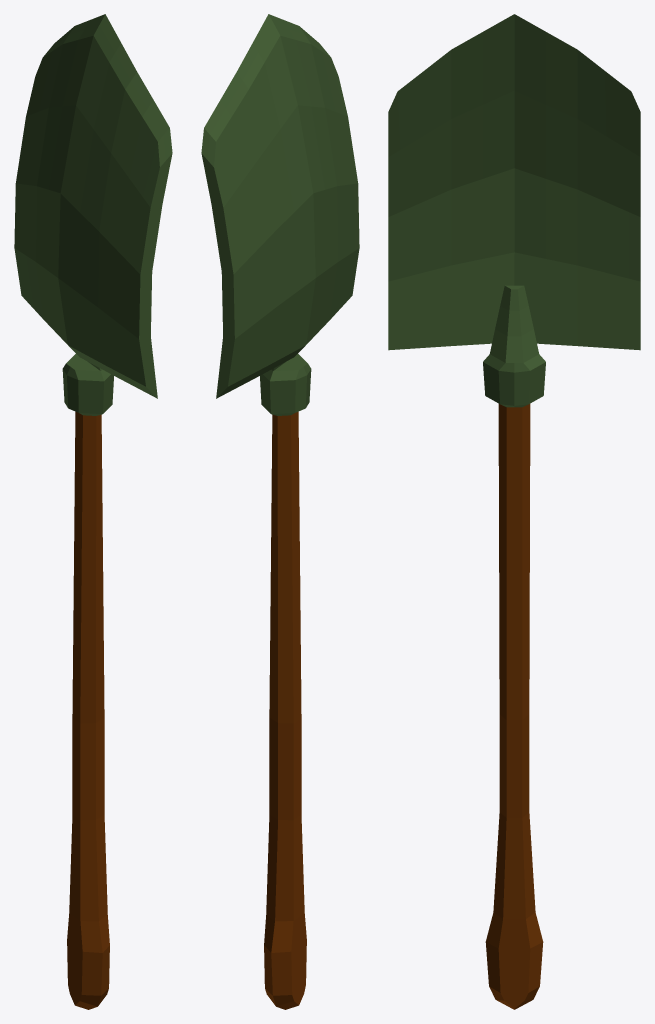
Rendered from Shovel.fbx.
The picture shows the model from 3 angles, left to right: view 1: azimuth 30°, elevation 25°; view 2: azimuth 150°, elevation 25°; view 3: azimuth 270°, elevation 25°; orthographic projection.
Visible parts, largest first — view 1: Melee Shovel; view 2: Melee Shovel; view 3: Melee Shovel.
Part boxes in pixels (x1=…): Melee Shovel: x1=14, y1=14, x2=172, y2=1009; Melee Shovel: x1=201, y1=14, x2=359, y2=1009; Melee Shovel: x1=388, y1=14, x2=640, y2=1009.
Size of the model in its own units: 27.48 by 483 by 110.
